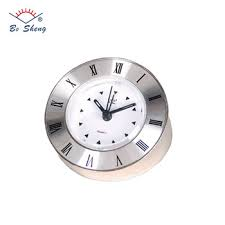alarm_clock: (41, 55, 172, 180), (45, 55, 172, 180), (45, 58, 175, 180), (45, 58, 172, 180)
